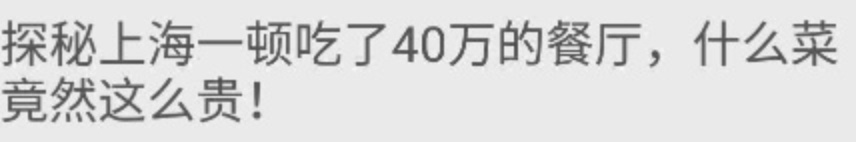TextView: (1, 1, 855, 141)
